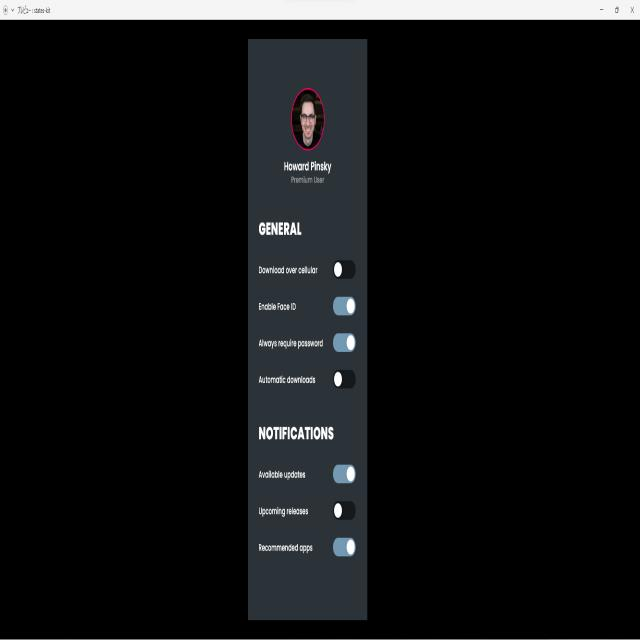toggle: (332, 367, 358, 392), (332, 499, 356, 523), (332, 260, 357, 281), (332, 464, 357, 485), (332, 538, 357, 558), (331, 298, 356, 316), (333, 333, 355, 353)
